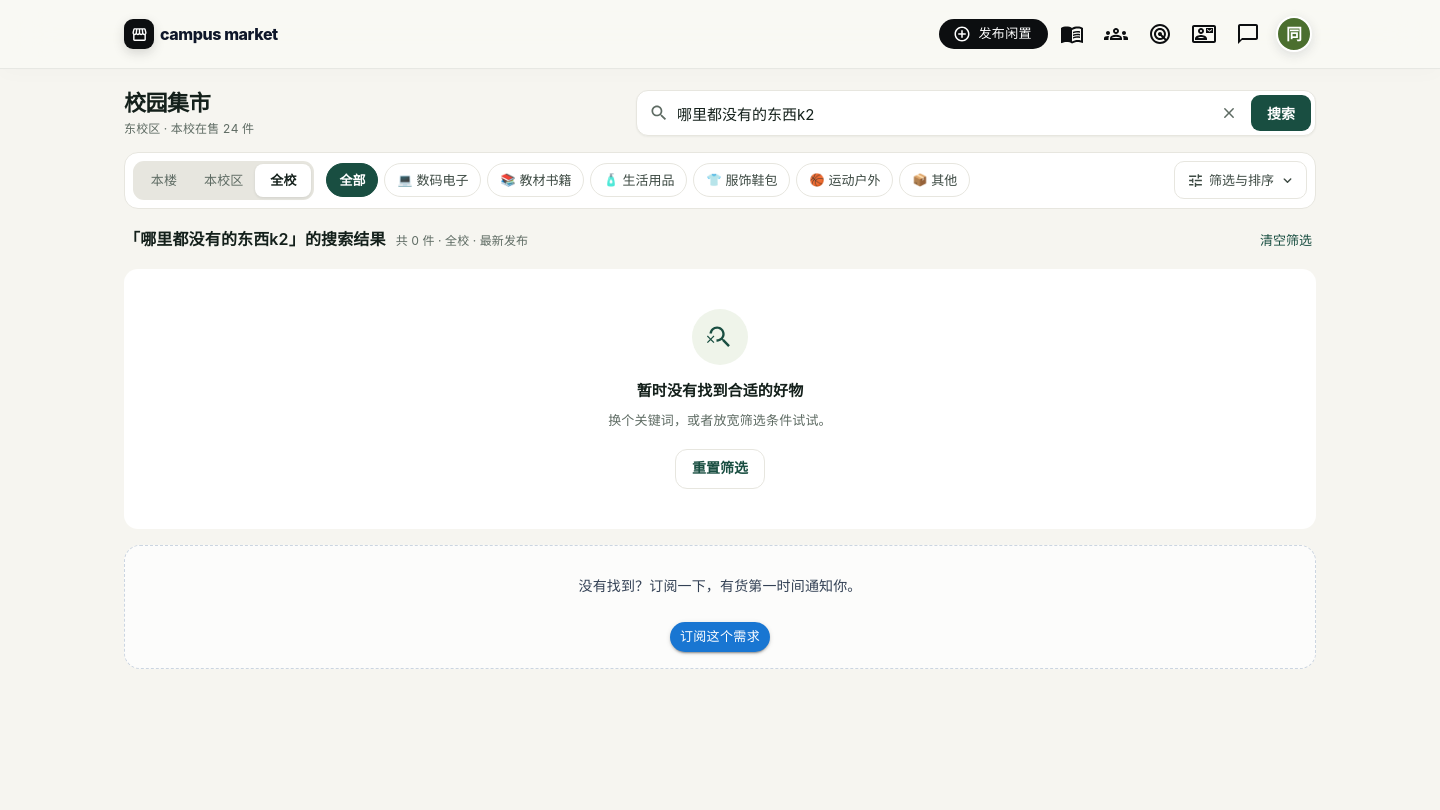
Test: 首页范围切换：与小程序相同的语义 › S10. 订阅预填：本校区 → CAMPUS + 本人校区（与小程序 demandPrefill 相同）
Click the radio button labelled "本校区" at point(224, 180), box [204,172,244,188]
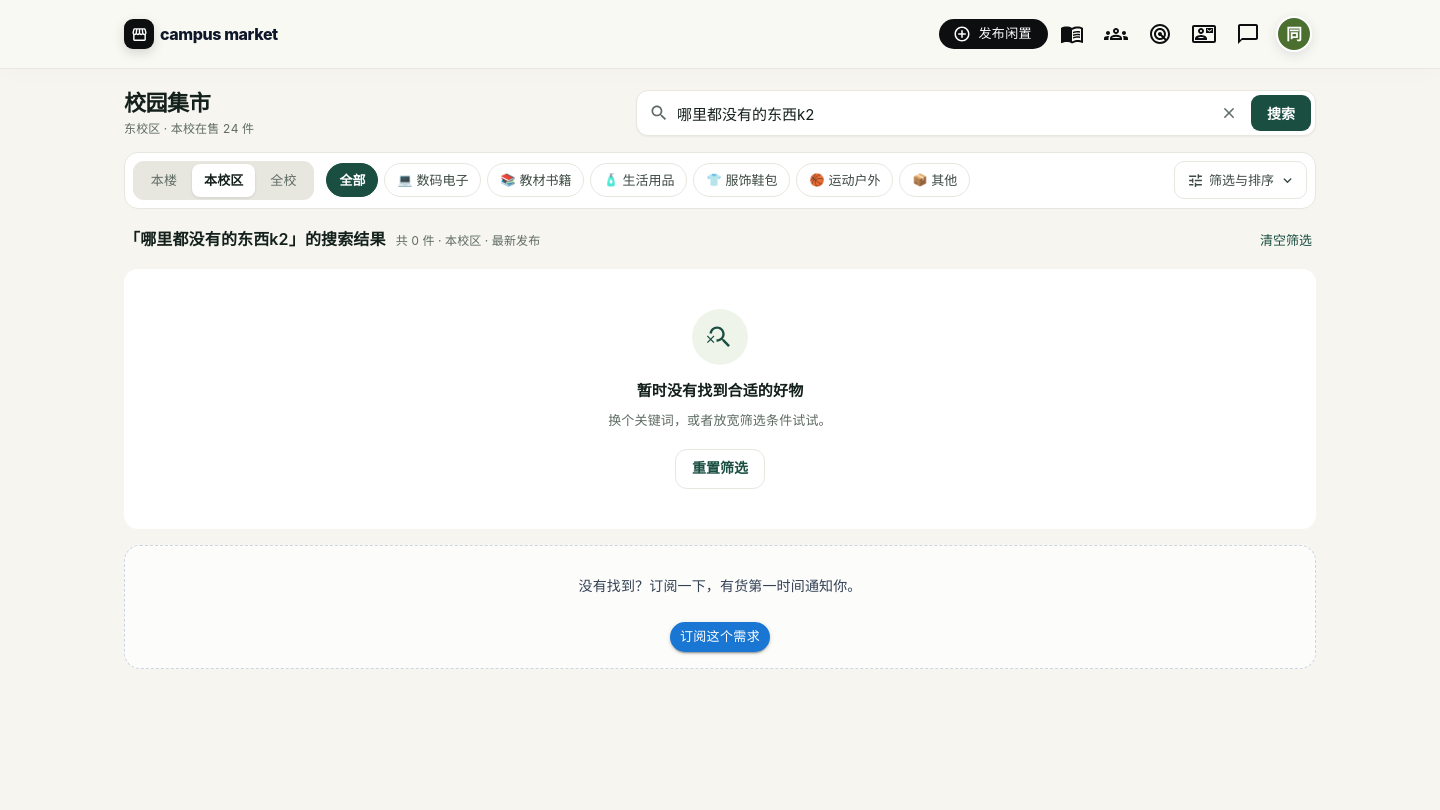
Click the button "订阅这个需求" at point(720, 637), box [670,622,770,652]
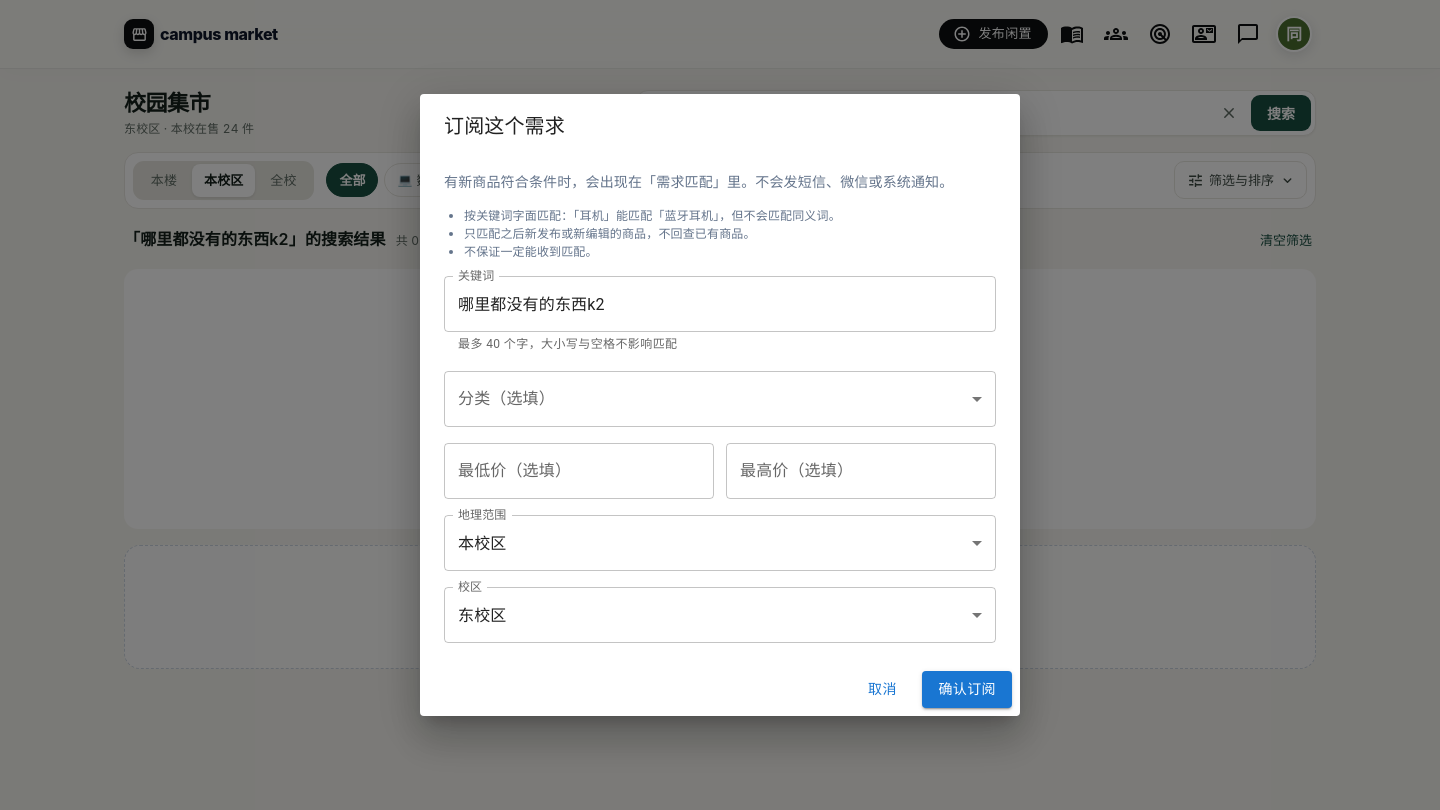
Click the button "确认订阅" at point(967, 689), box [922,671,1012,708]
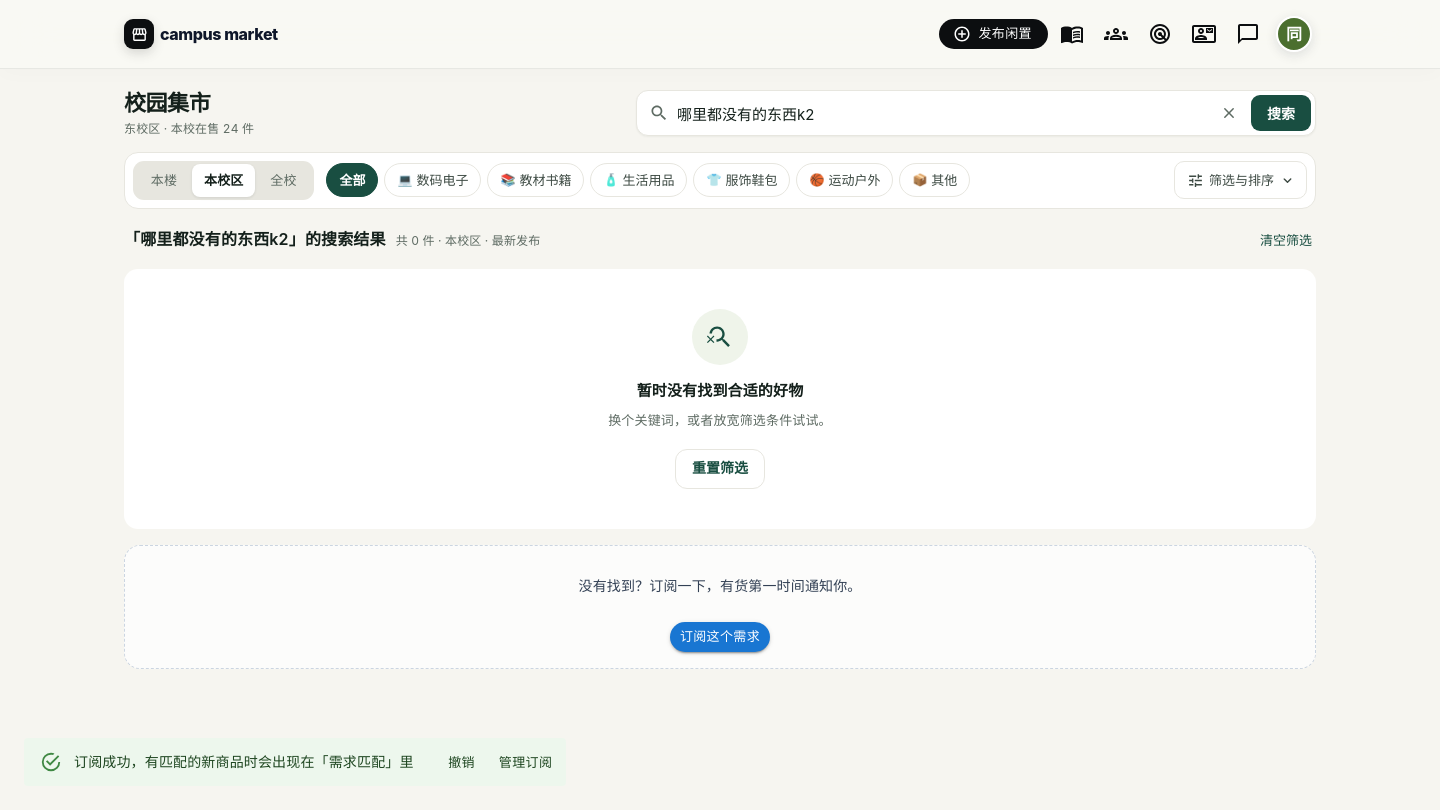
expect the text "订阅成功，有匹配的新商品时会出现在「需求匹配」里" is shown: met, box [74,754,414,770]
